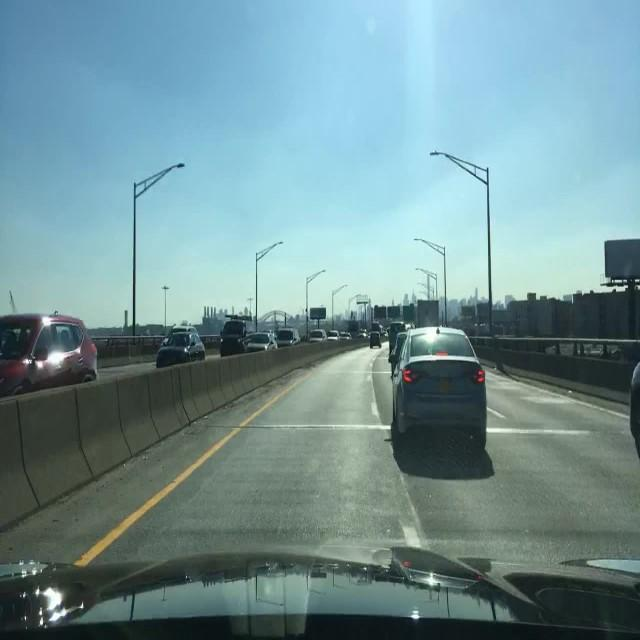normal: (384, 328, 487, 480), (0, 313, 96, 397), (155, 329, 206, 365), (245, 332, 278, 352), (275, 329, 300, 346), (309, 329, 327, 341)
